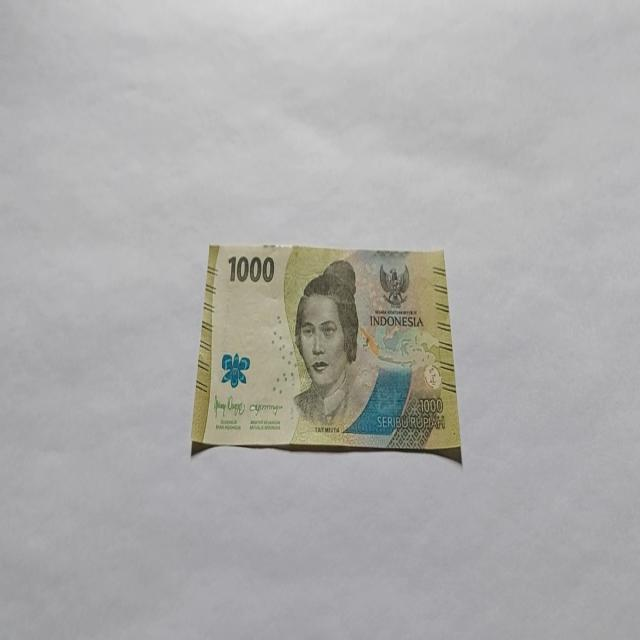seribu rupiah kertas: (190, 242, 462, 462)
